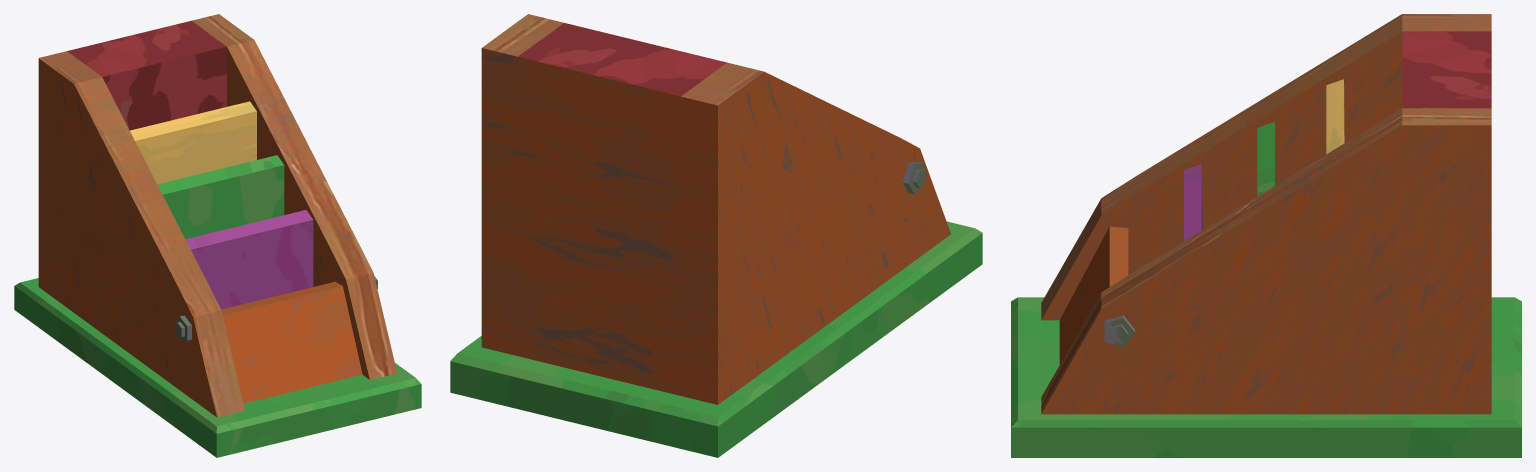
Rendered from weapon rack.fbx.
The picture shows the model from 3 angles, left to right: view 1: azimuth 30°, elevation 25°; view 2: azimuth 150°, elevation 25°; view 3: azimuth 270°, elevation 25°; orthographic projection. The views are drawn at different scales.
Parts seen in each view (by area): view 1: weapon rack_uv; view 2: weapon rack_uv; view 3: weapon rack_uv.
Boxes of the visible parts, bbox=[...] form: weapon rack_uv: bbox=[14, 14, 421, 457]; weapon rack_uv: bbox=[450, 14, 982, 457]; weapon rack_uv: bbox=[1011, 14, 1521, 457].
Size of the model in its own units: 264 by 318 by 452.
Materials: 1 (1 with a texture image).
